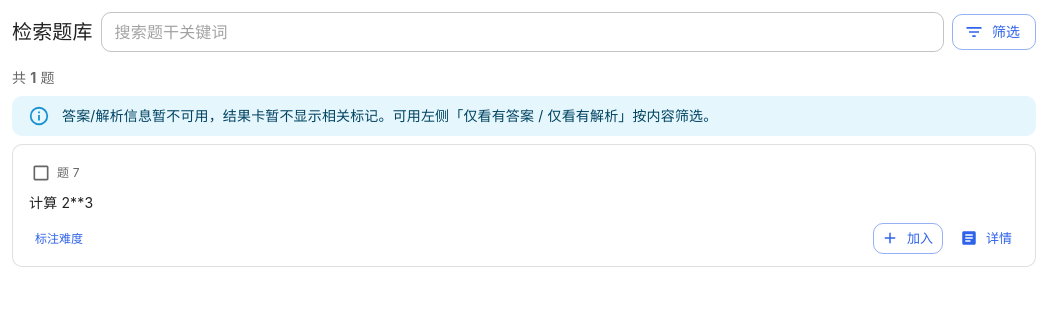
B2-1 找题页：批量条按需出现 › 勾选一题后出现批量条并显示计数；清空后消失
Click the checkbox named "选择题 7": (41, 173) 31,163 -> 51,183
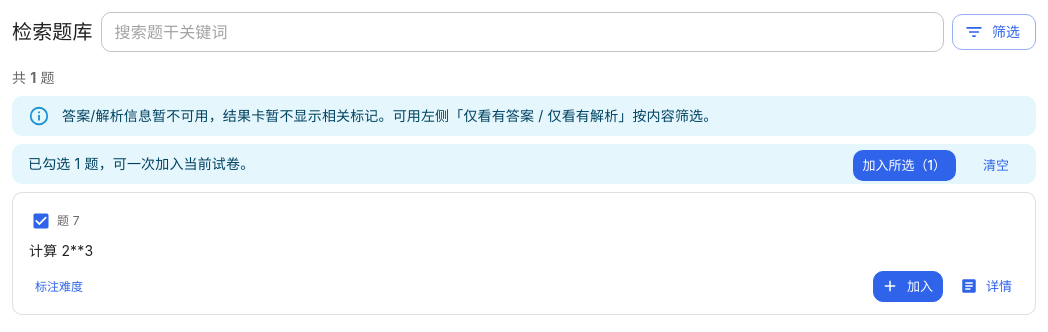
Check: the button with test id "add-selected" reads "加入所选（1）", box 853,150 -> 956,181
# 点「清空」→ 选择清空 → 批量条随之消失。
Click the button "清空": (996, 165) 964,150 -> 1028,181
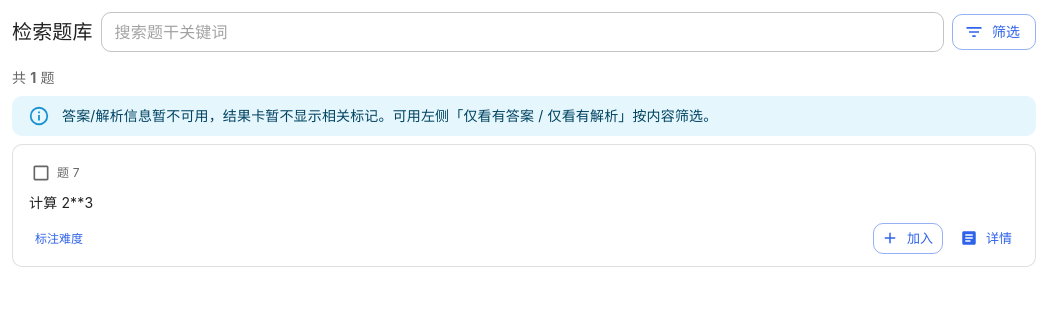
Check: the button with test id "add-selected" is gone
